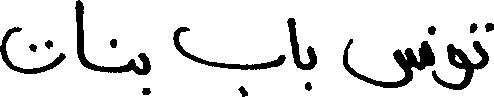X: (175, 22, 282, 96), (342, 34, 422, 92), (0, 22, 63, 78), (449, 21, 470, 94), (474, 18, 493, 74), (76, 0, 86, 72), (288, 13, 299, 72), (424, 21, 434, 84), (139, 48, 150, 96), (308, 41, 316, 95), (127, 54, 135, 77)
